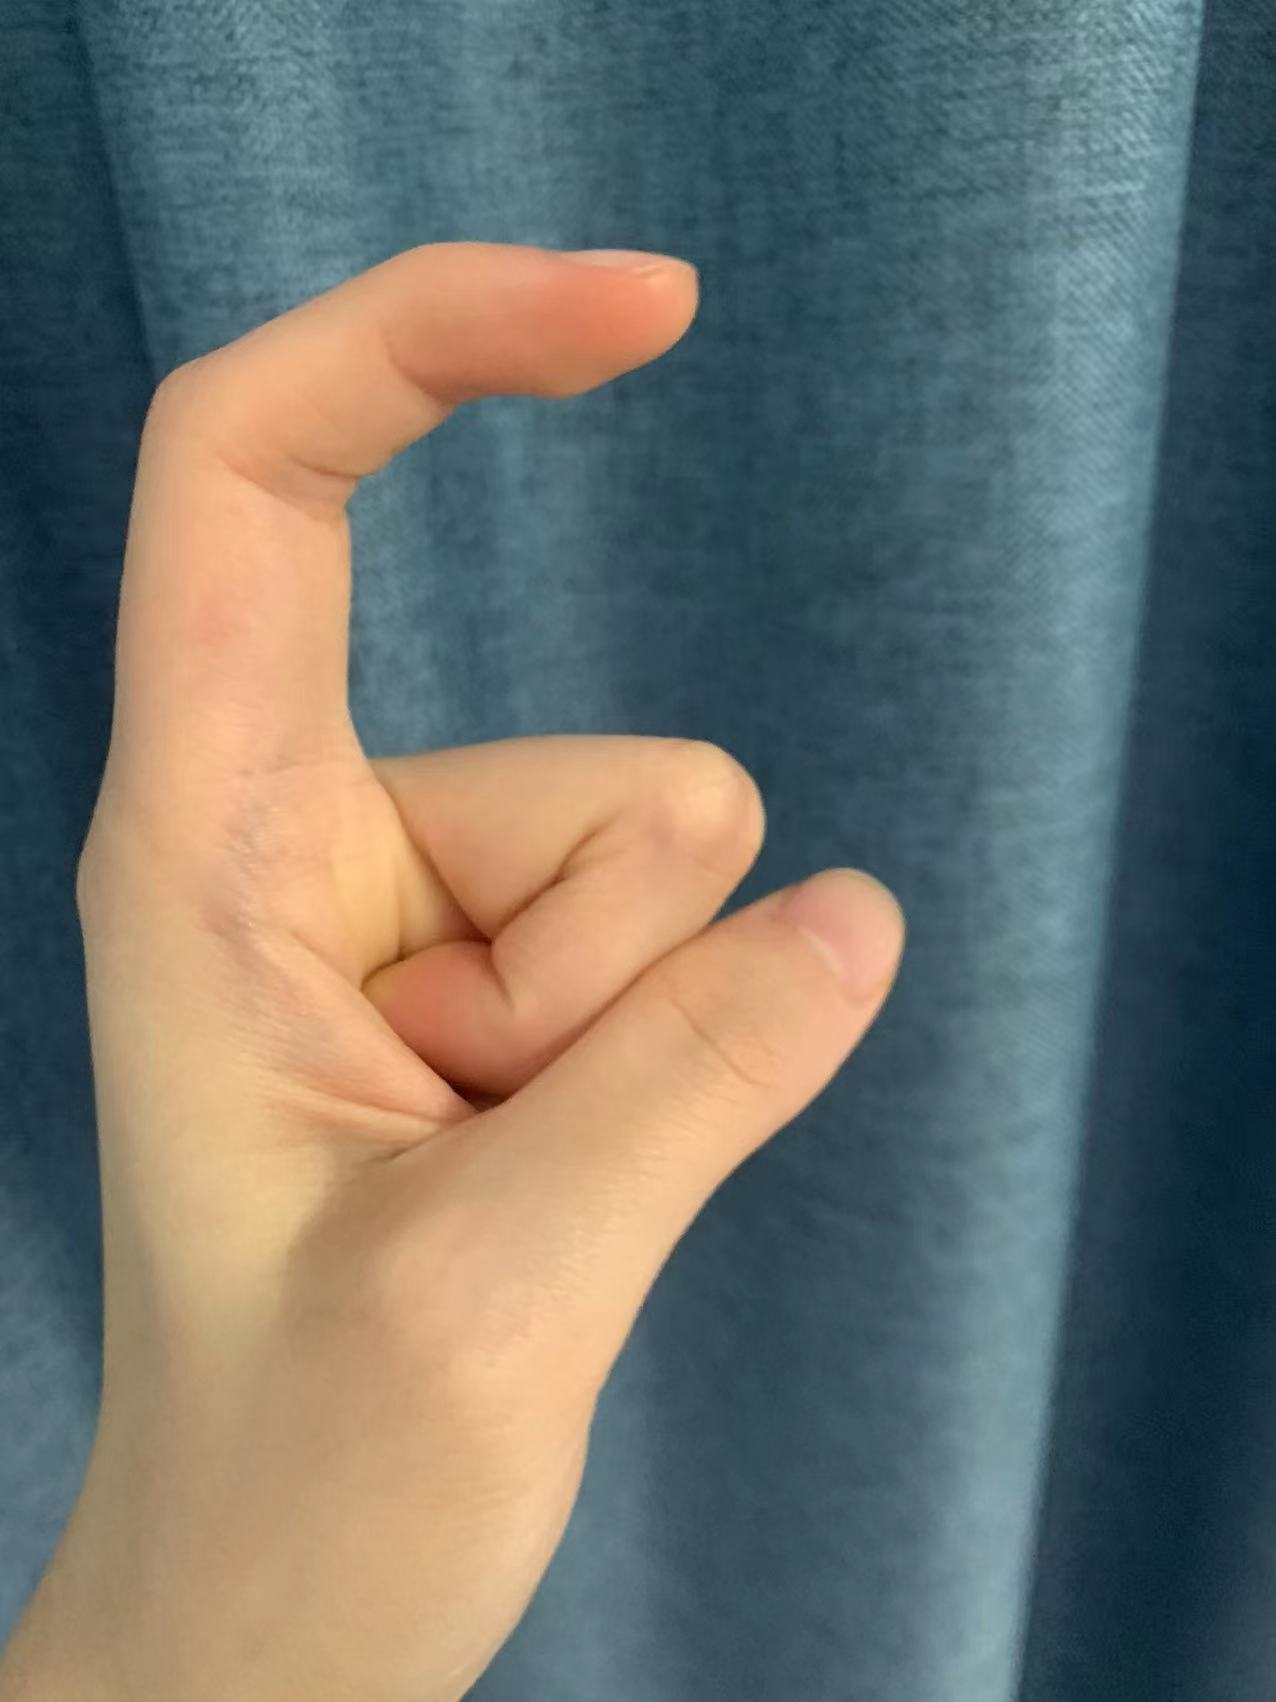anticlockwise: (58, 231, 914, 1563)
